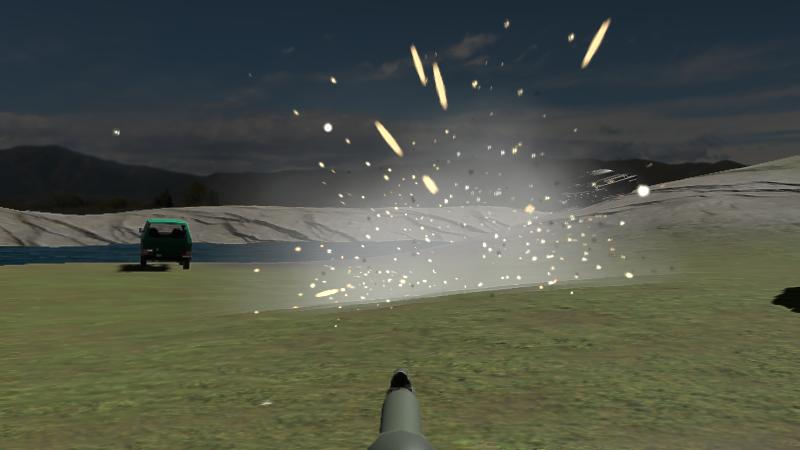car: (138, 215, 194, 273)
